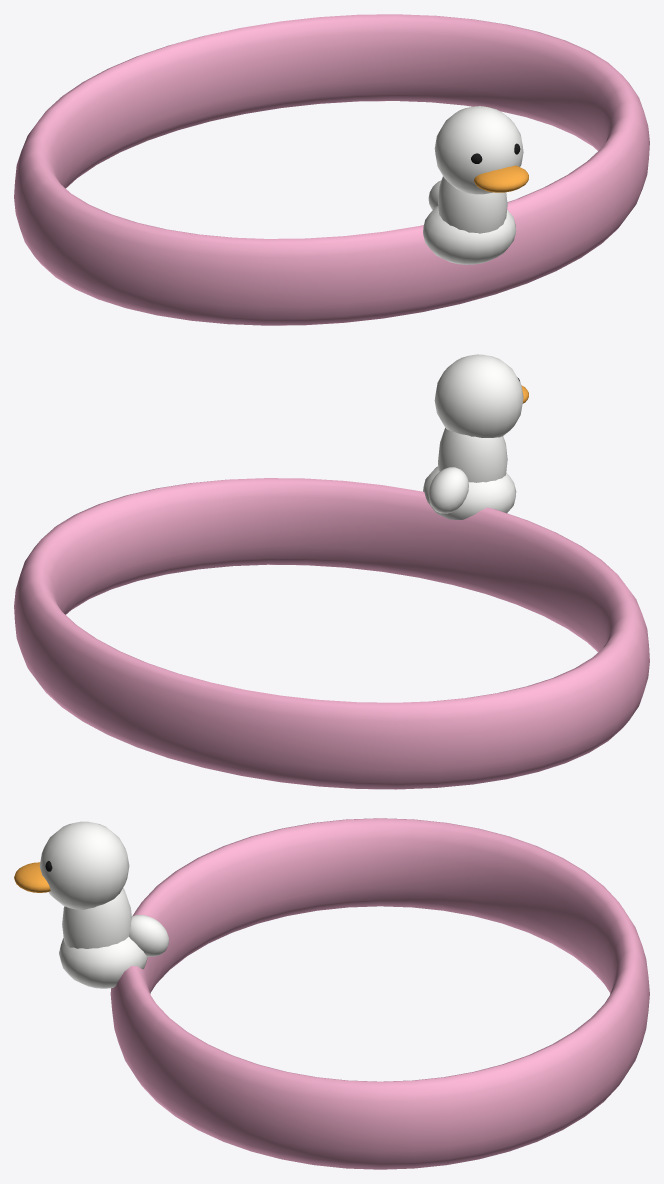
Rendered from duckring3.fbx.
3 renders of one model, top to bottom at view 1: azimuth 30°, elevation 25°; view 2: azimuth 150°, elevation 25°; view 3: azimuth 270°, elevation 25°, orthographic.
Visible parts, largest first — view 1: duckring3; view 2: duckring3; view 3: duckring3.
Part boxes in pixels (box(x1,y1,x2,y2)): duckring3: box(14, 14, 649, 325); duckring3: box(14, 354, 649, 789); duckring3: box(14, 818, 649, 1169).
Bounding box in the file's own units: 1.04 × 0.365 × 0.9914.
